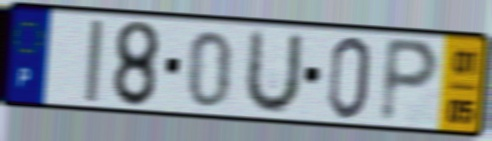0: (324, 33, 374, 122), (186, 27, 236, 109)
8: (111, 18, 161, 110)
I: (82, 17, 106, 105)
P: (376, 34, 443, 127)
U: (240, 26, 306, 117)
